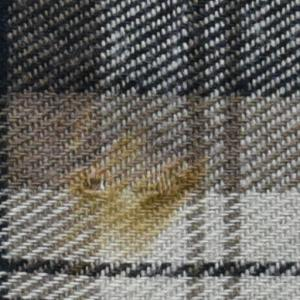Damage: (131, 157, 200, 216), (83, 174, 124, 193)
Oil Stain: (62, 135, 212, 262), (55, 105, 96, 155)
